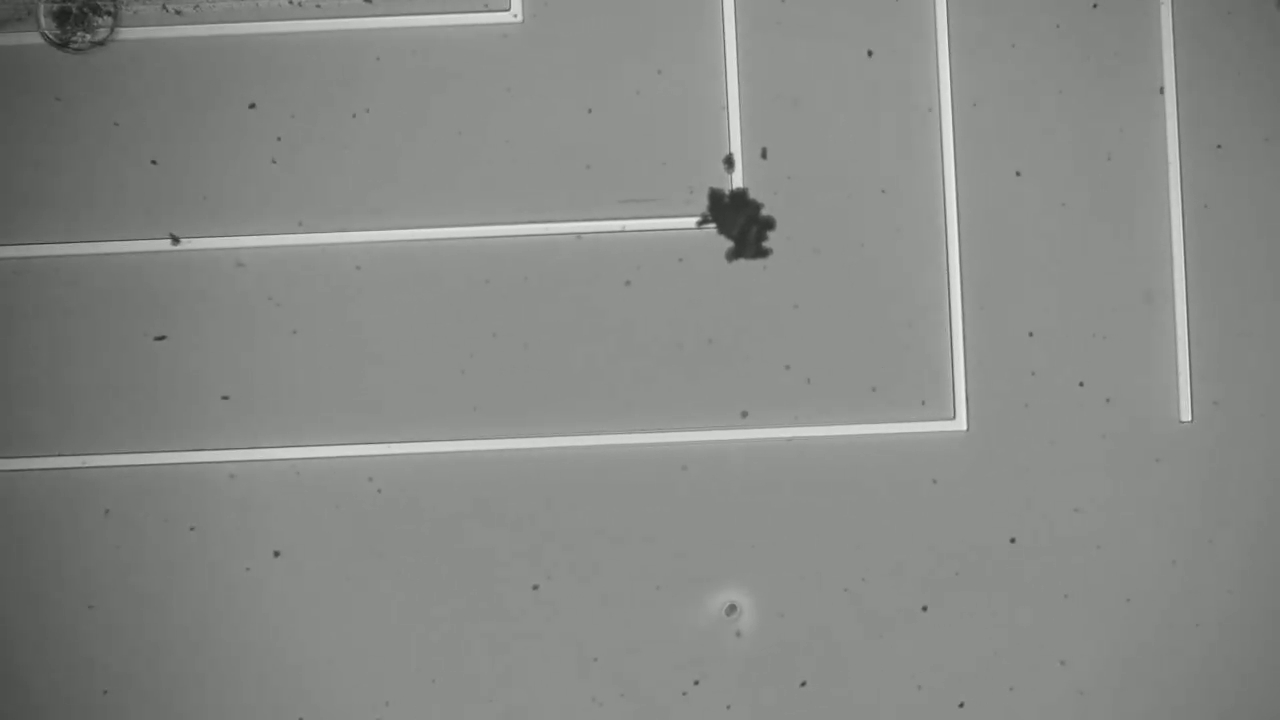stains_enbedded: (693, 171, 789, 274)
